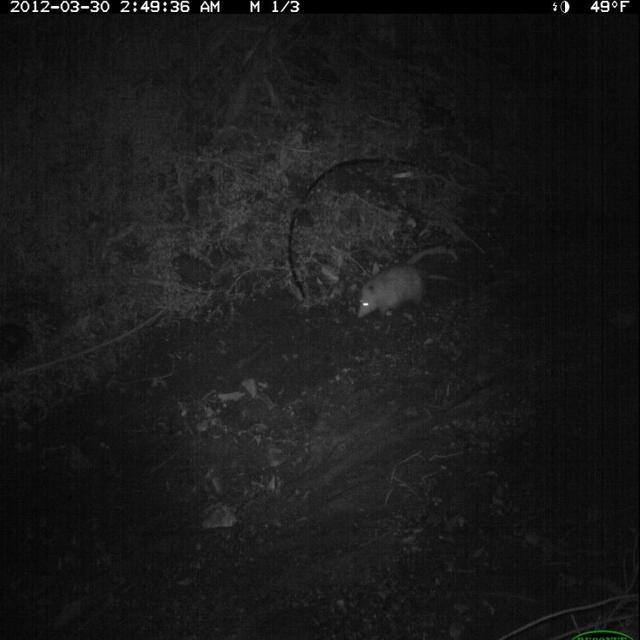opossum: (348, 252, 462, 326)
